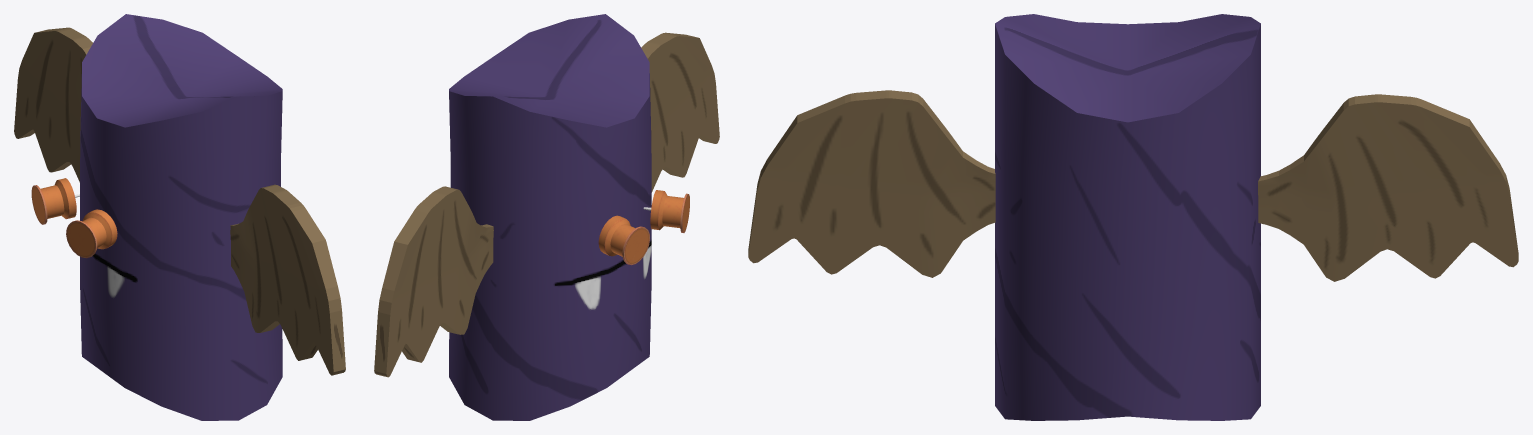
The model's file is MuercielaGo.fbx.
3 views of the same model, side by side, from view 1: azimuth 30°, elevation 25°; view 2: azimuth 150°, elevation 25°; view 3: azimuth 270°, elevation 25° (orthographic). The views are drawn at different scales.
Parts seen in each view (by area): view 1: MurcielaGo; view 2: MurcielaGo; view 3: MurcielaGo.
Boxes of the visible parts, x1,y1,x2,y2 form: MurcielaGo: (14, 14, 345, 420); MurcielaGo: (374, 14, 719, 420); MurcielaGo: (748, 14, 1518, 420).
Bounding box in the file's own units: 55.96 × 82.53 × 151.
